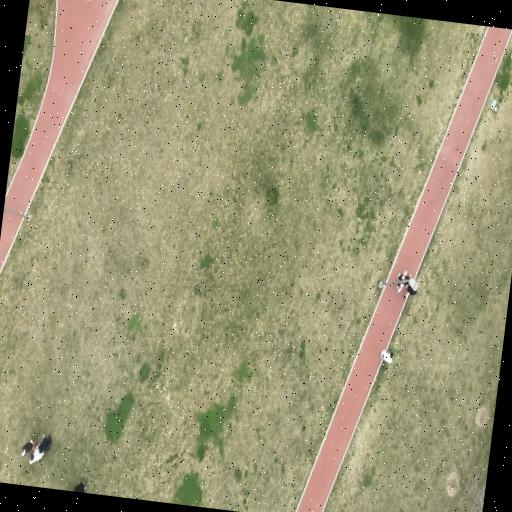person: (29, 435, 50, 463), (29, 445, 42, 463), (19, 440, 33, 456), (37, 435, 50, 451), (405, 277, 417, 294), (396, 271, 405, 291), (380, 349, 392, 363), (72, 481, 84, 492)
